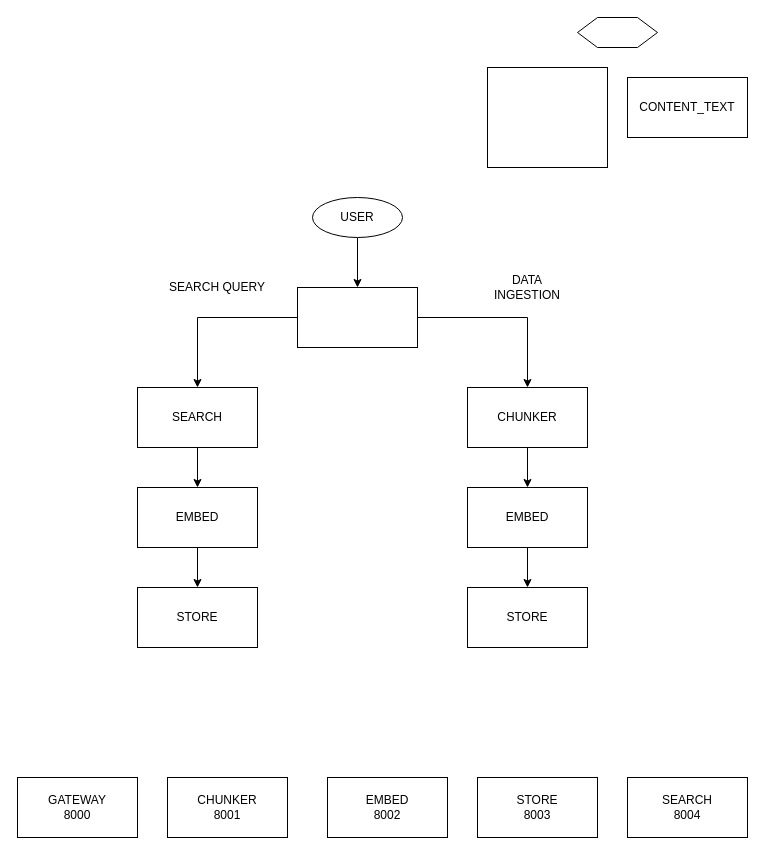
Image size: 765x855. Some labels were removed from this diagram. The centre of each missing label's shape, as x and y in pixels:
DATA: the point at 617,32
GATEWAY: the point at 357,317
META DATA: CASE NO. DATE COURT LAWYERS FILE NAME: the point at 547,117
